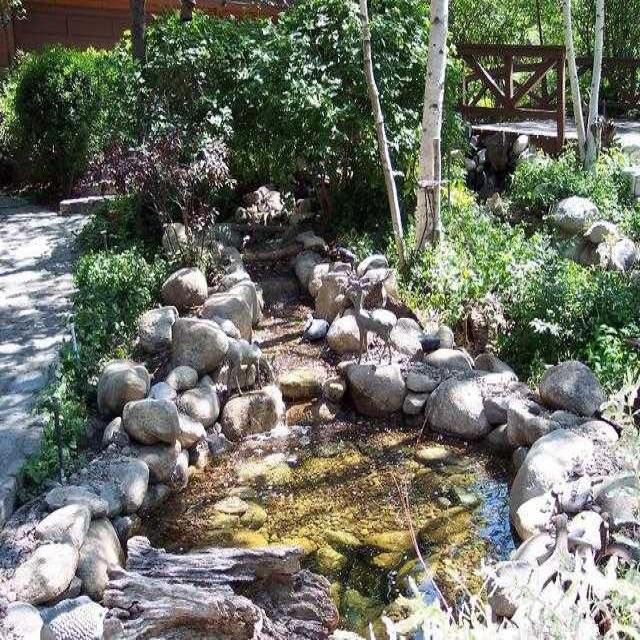Ponds: (1, 188, 639, 640)
